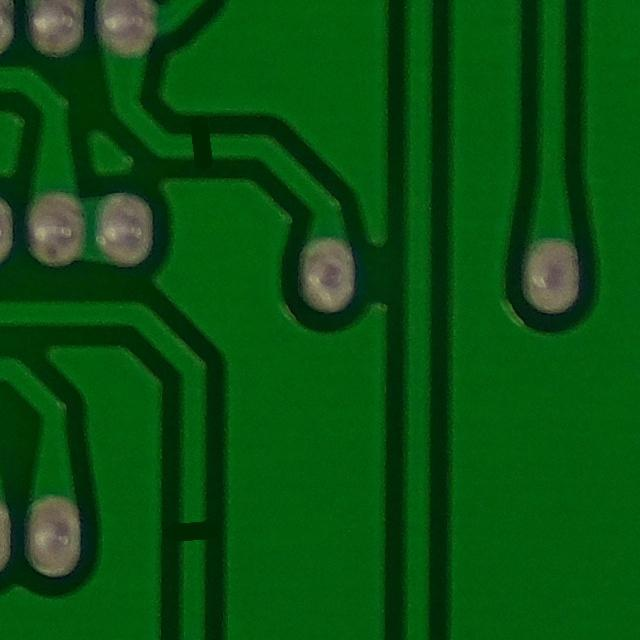open_circuit: (179, 122, 226, 173), (173, 510, 217, 553)
